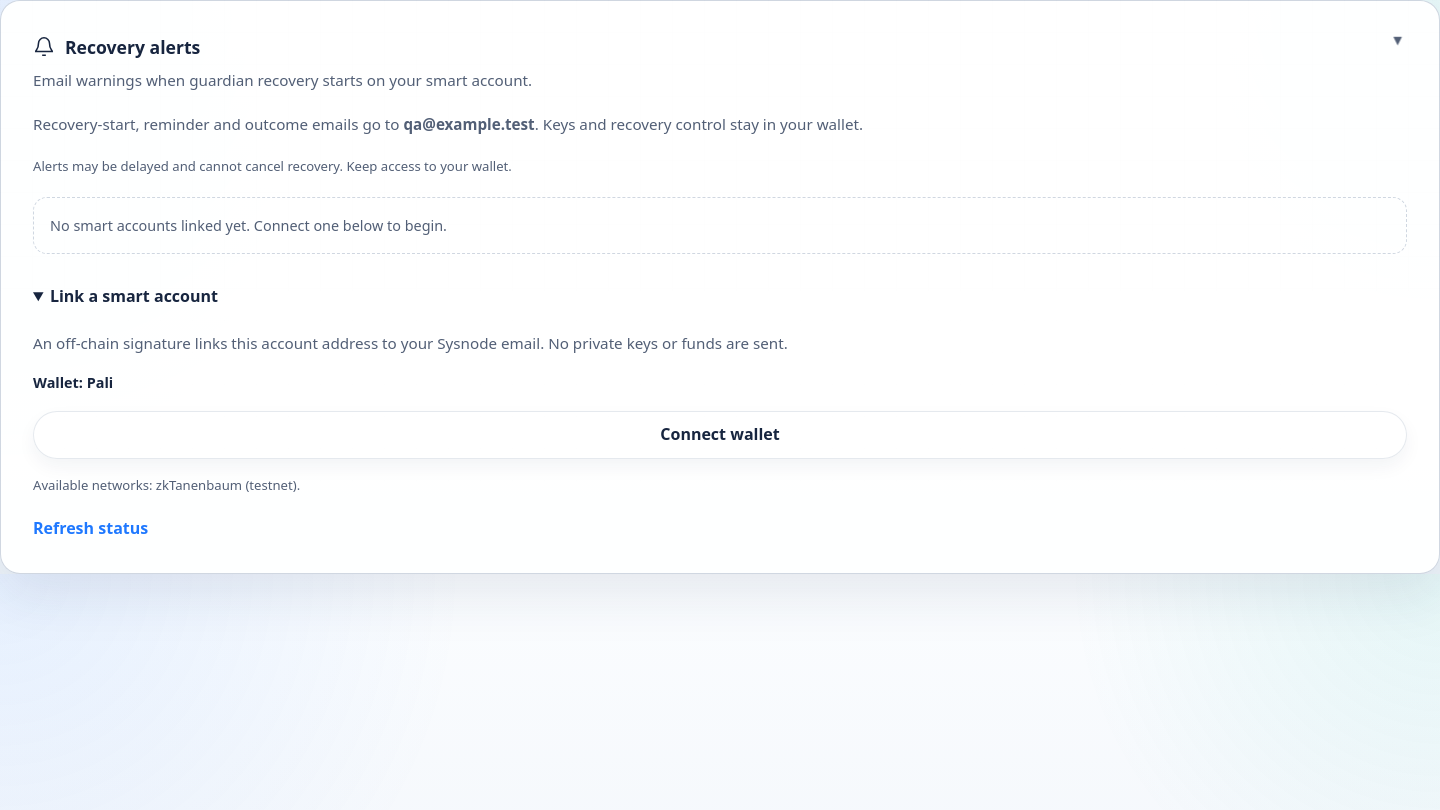
Test: enrollment requests an off-chain signature, saves only proof and refreshes monitoring
The width and height of the screenshot is (1440, 810).
expect the text "No smart accounts linked yet. Connect one below to begin." is shown: met, box [33,197,1407,254]
Click the button "Connect wallet" at (720, 434), box [33,410,1407,458]
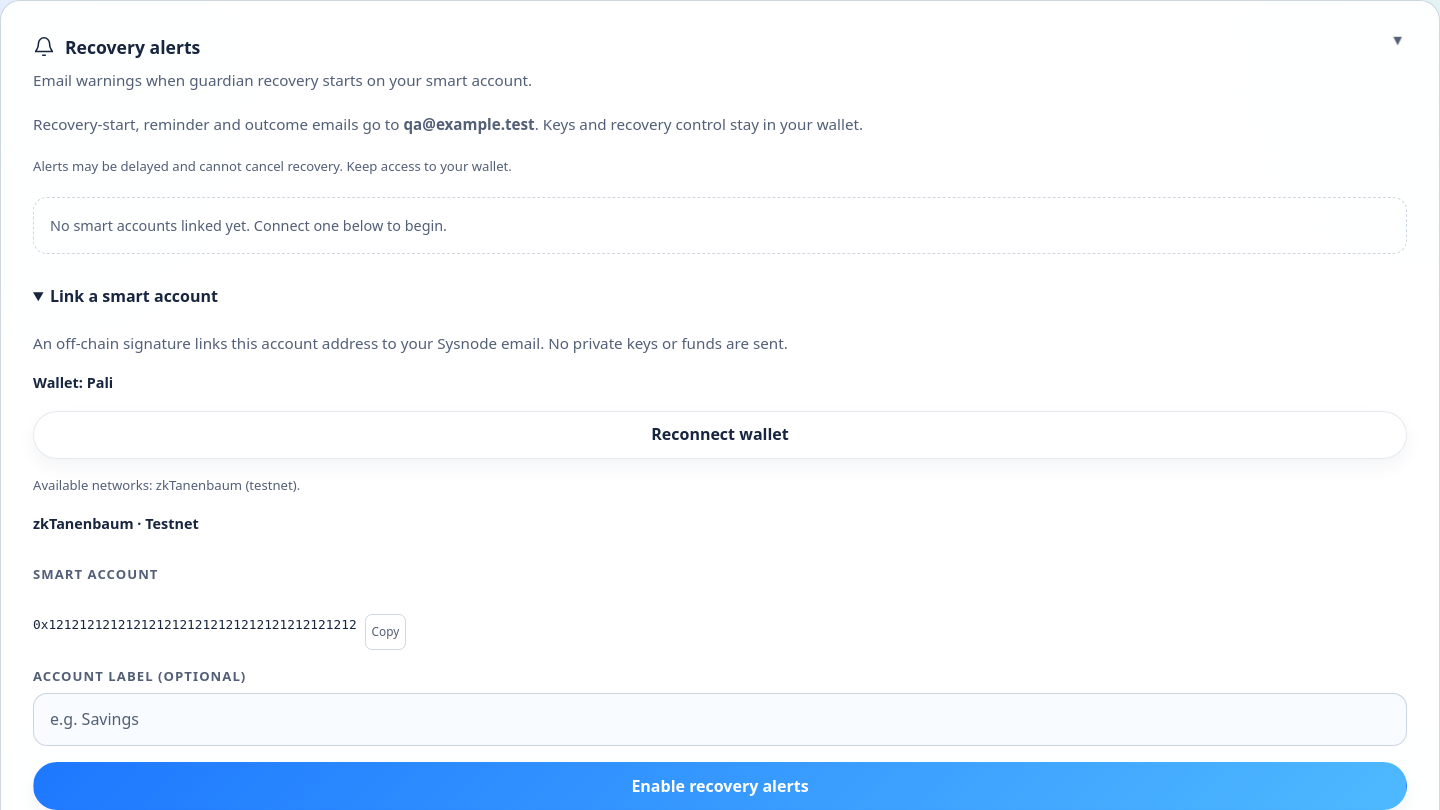
expect the text "An off-chain signature links this account address" is shown: met, box [33,333,788,353]
expect the button "Enable recovery alerts" is shown: met, box [33,762,1407,809]
Type "Savings" into the field labelled "Account label (optional)" at (720, 720), box [33,693,1407,746]
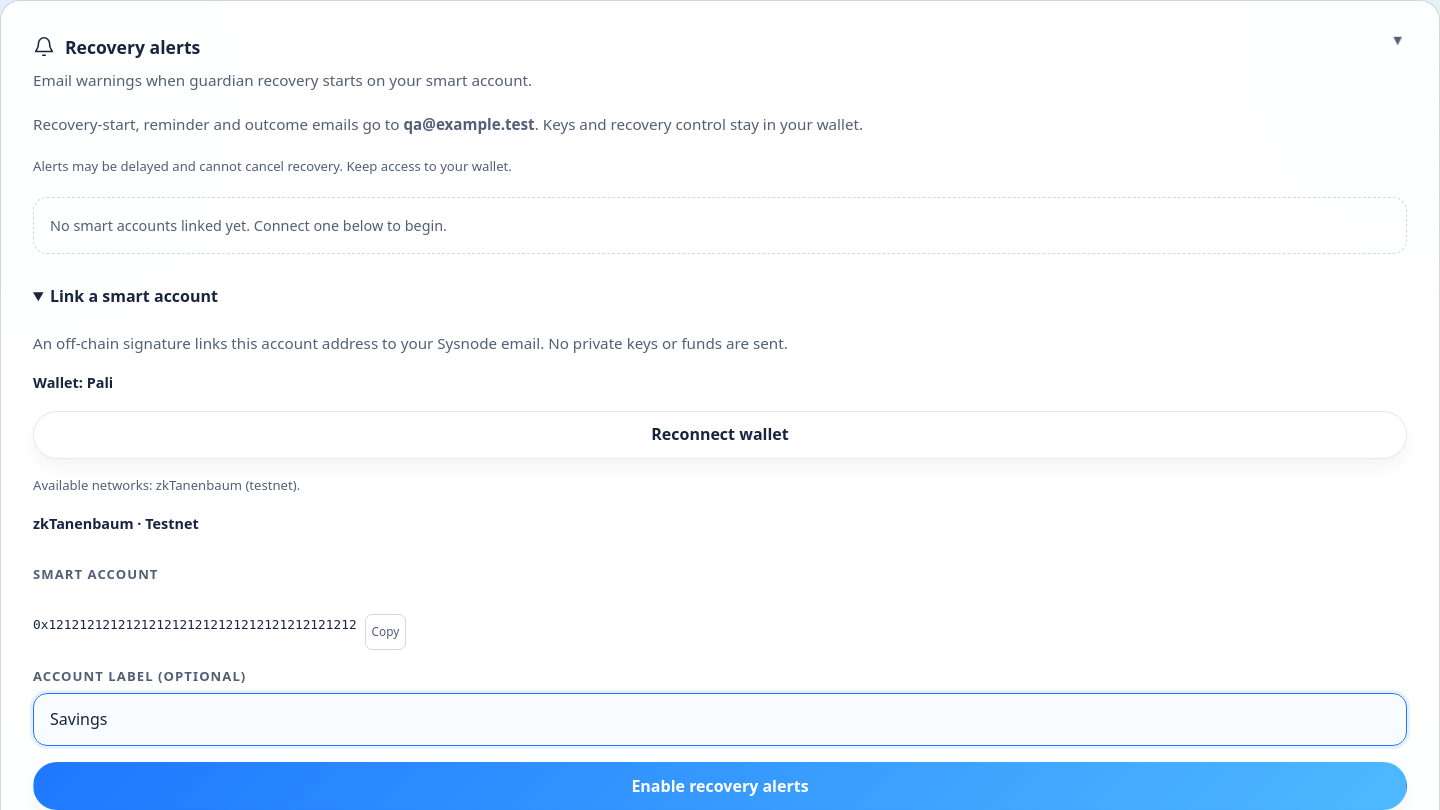
Click the button "Enable recovery alerts" at (720, 786), box [33,762,1407,809]
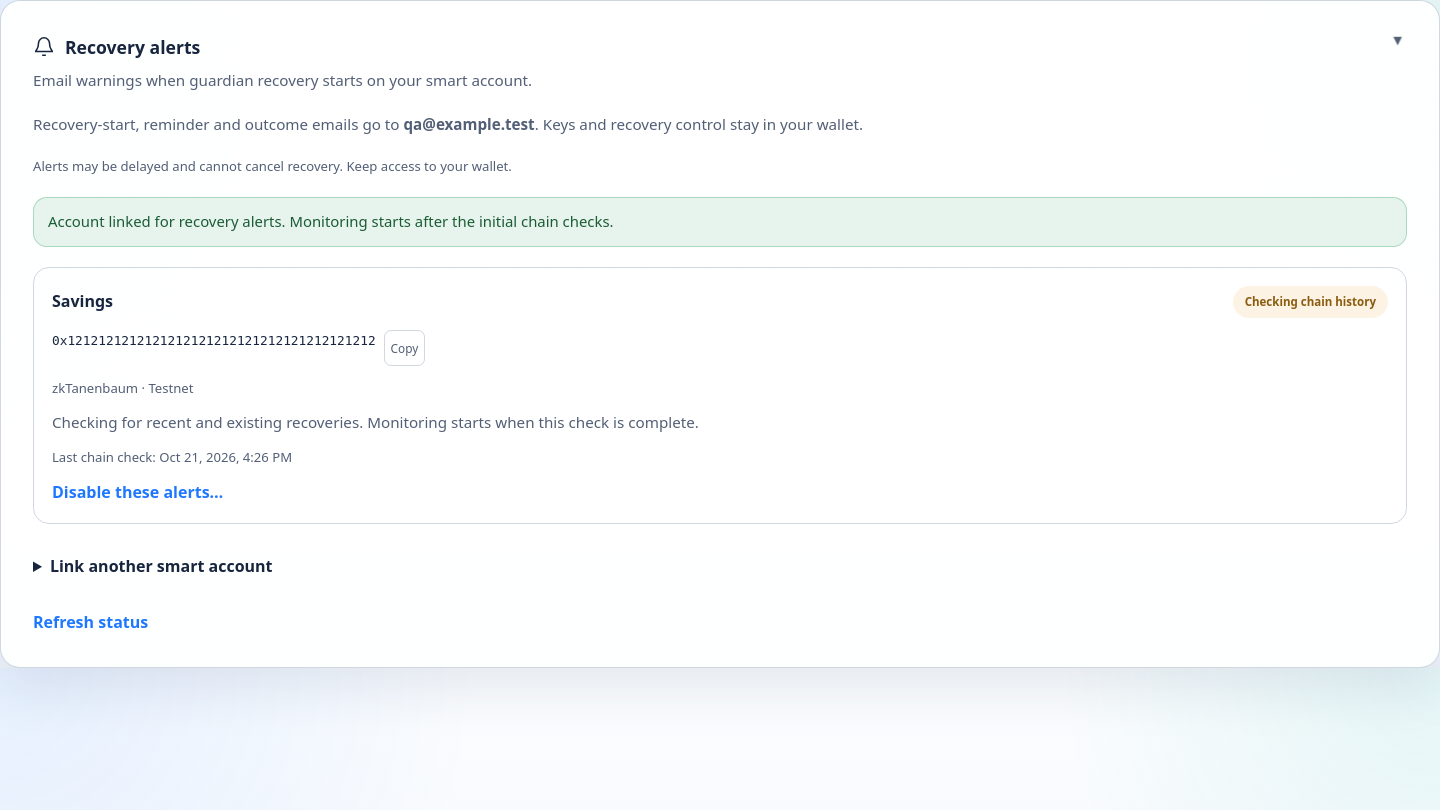
expect the text "Checking chain history" is shown: met, box [1233,286,1388,318]
expect the text "Account linked for recovery alerts" is shown: met, box [48,211,614,231]
expect the text "Checking for recent and existing recoveries" is shown: met, box [52,412,699,432]
